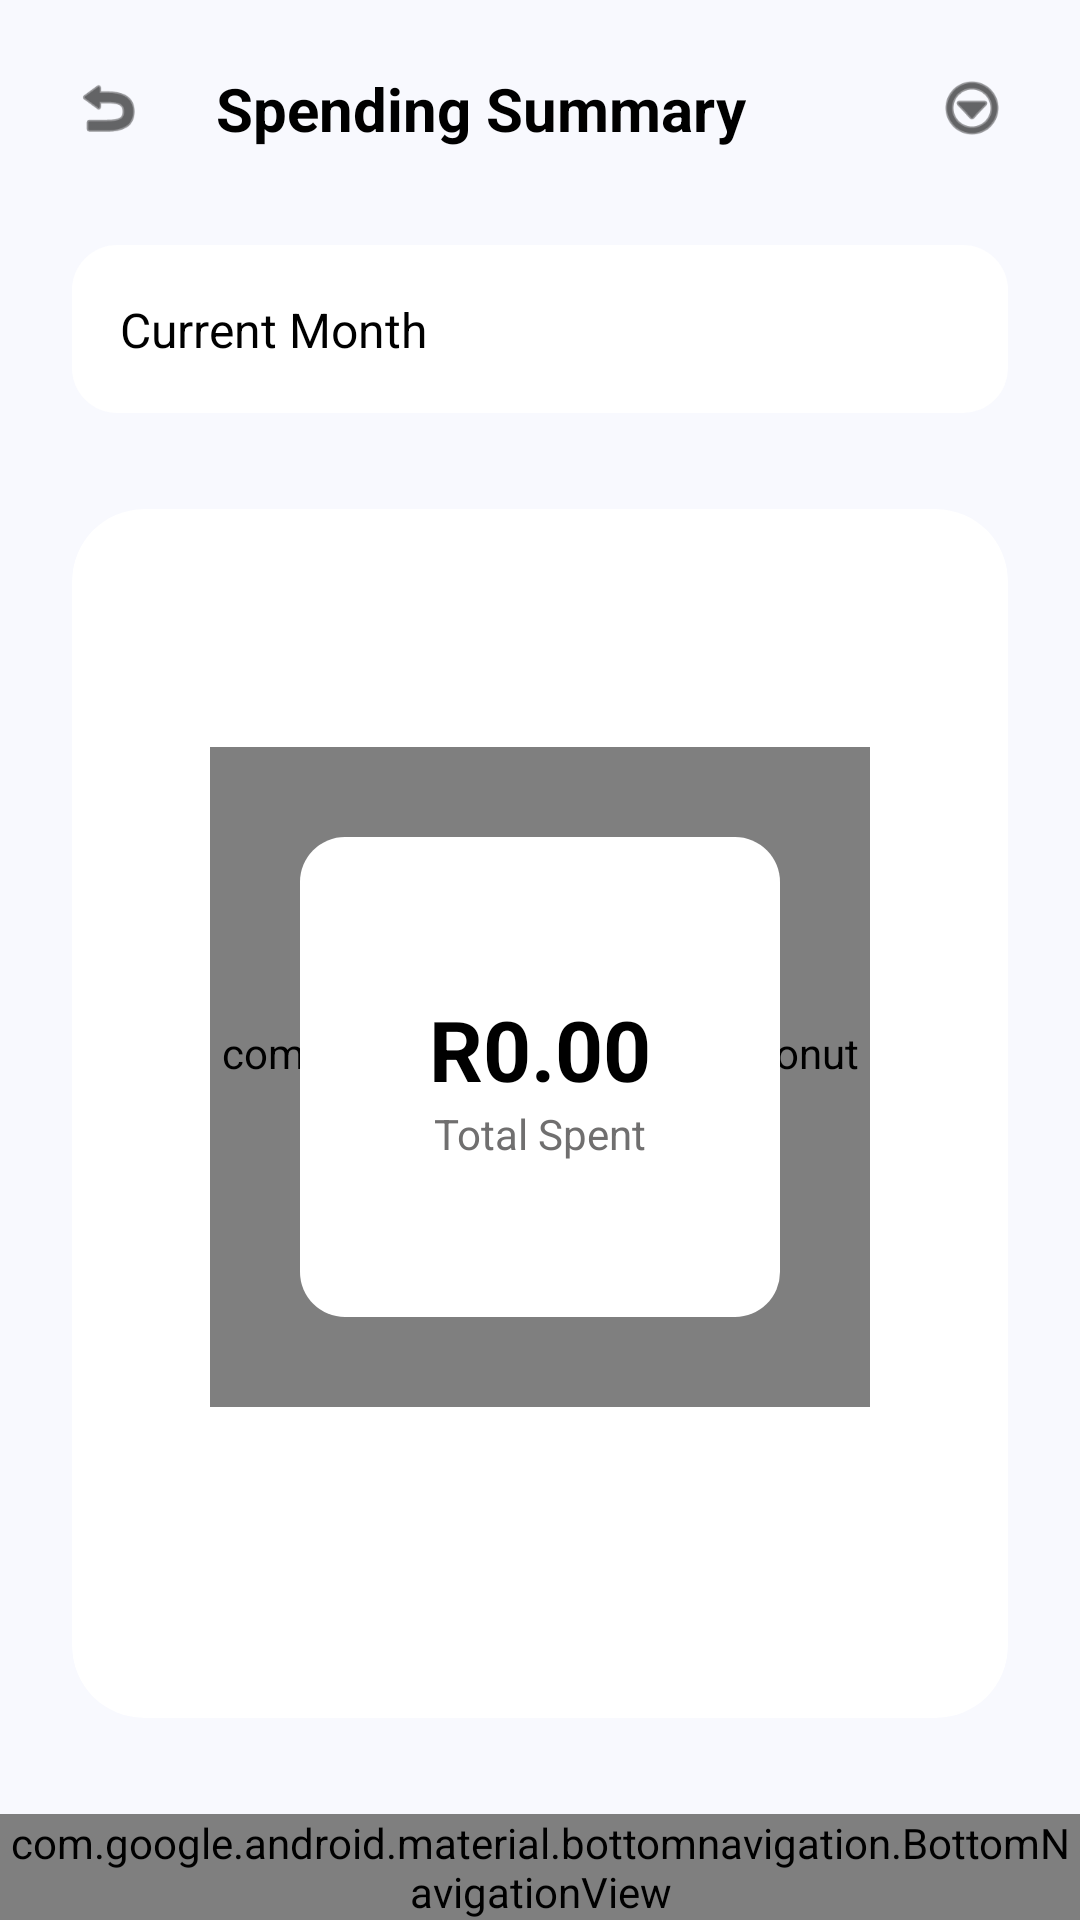

Screen size 1080px×1920px. Icon name, then its box in pixels as {"left": x1, "top": y1, "right": x2, "bottom": y2}:
Back: {"left": 83, "top": 85, "right": 135, "bottom": 132}
More: {"left": 945, "top": 81, "right": 999, "bottom": 135}
